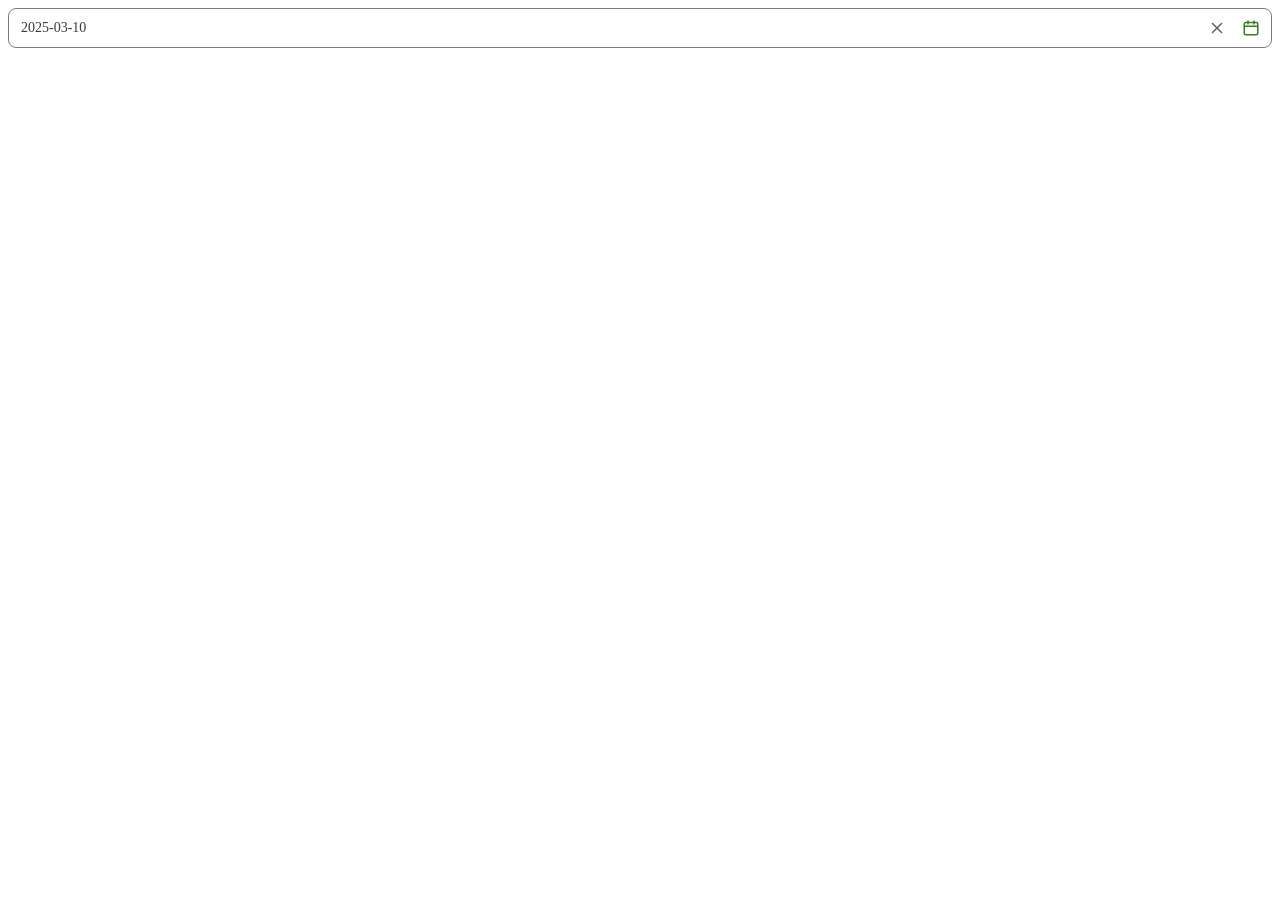
DatePicker › opens on click, focuses the selected day, and commits a picked day
Step 1. Click the field named "Event date" → (604, 28), box [9, 9, 1199, 47]
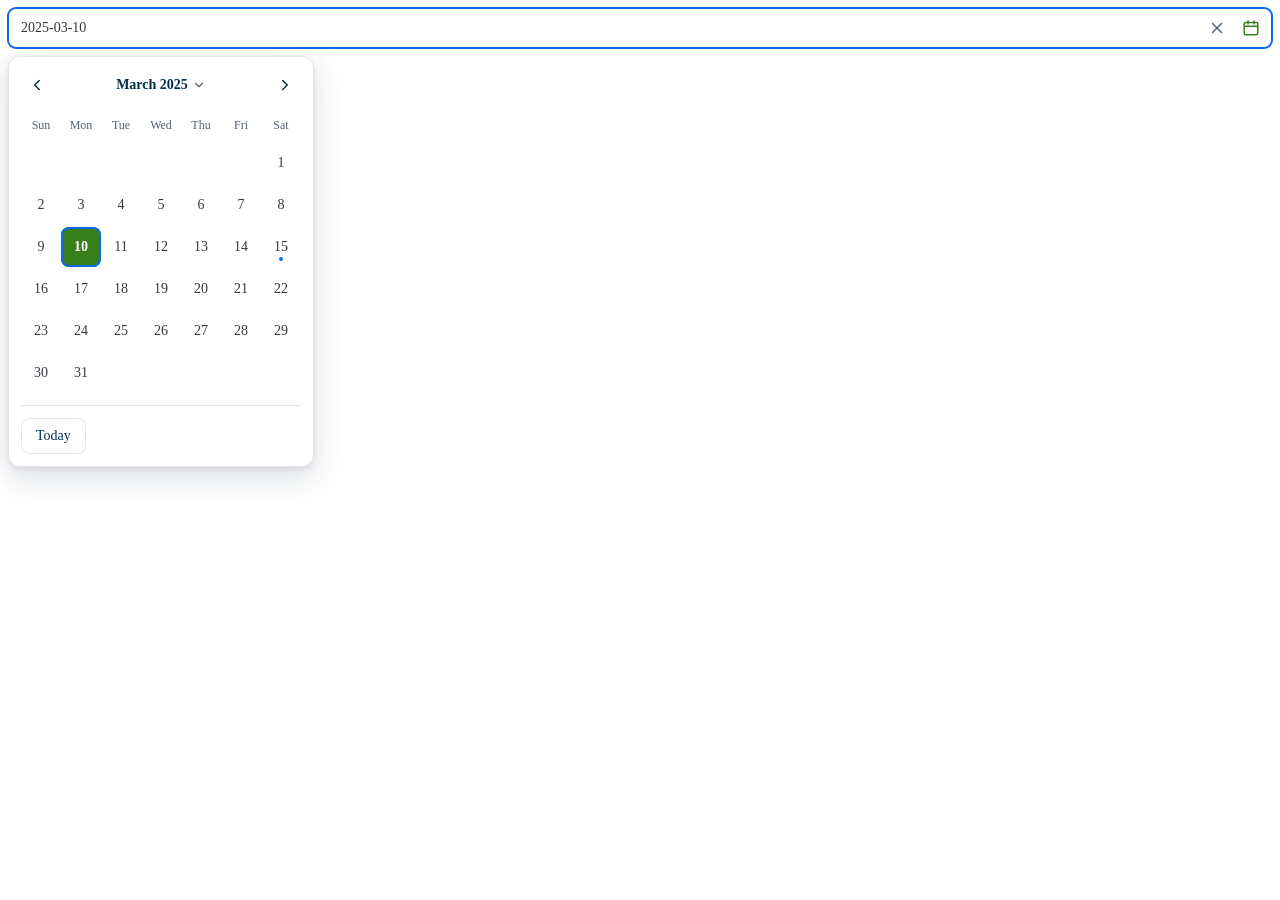
Expected: the dialog is shown, [8, 56, 314, 467]
Step 2. Click the button named "Thursday, March 20, 2025" → (201, 289), box [181, 269, 221, 309]
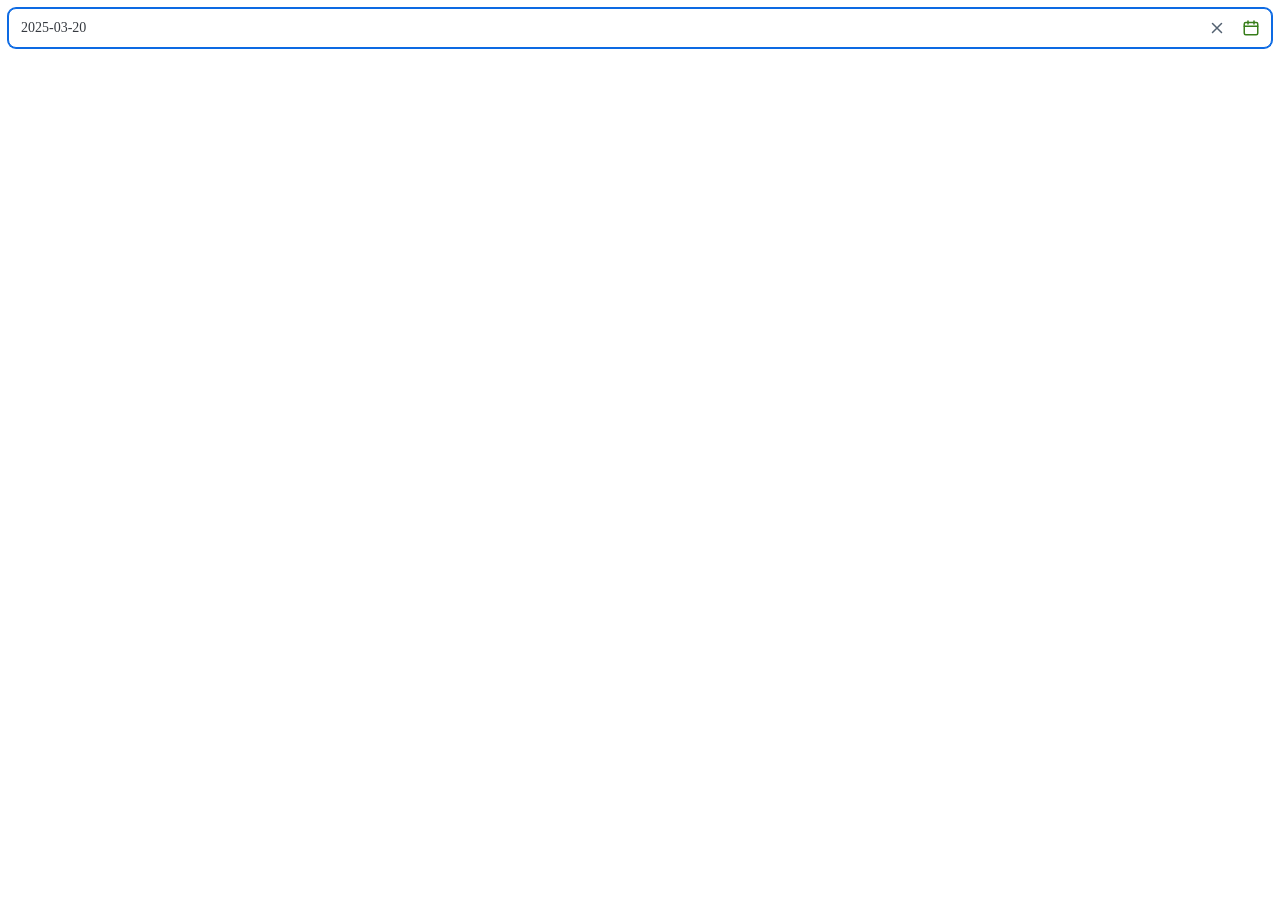
Expected: the dialog is gone
Expected: the field named "Event date" holds "2025-03-20", [9, 9, 1199, 47]
